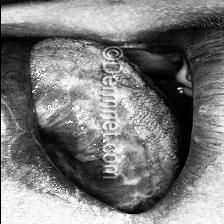Non-Cancerous Skin Condition: (54, 33, 174, 199)
